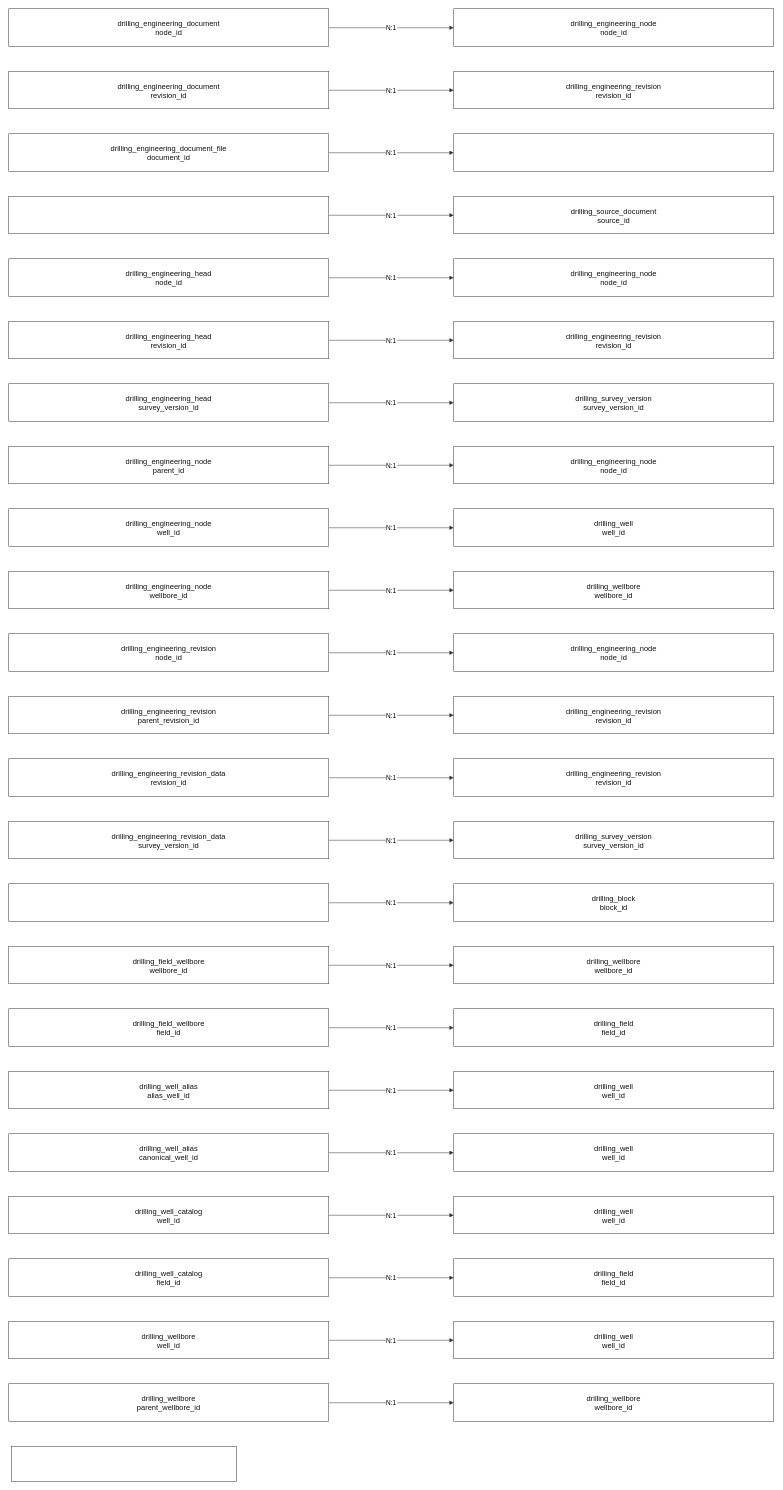
Some shapes in this 783 by 1490 pixel diagram are drawn without their labels. Each missing label, with the box of its shape:
drilling_engineering_document document_id: (453, 133, 774, 171)
drilling_engineering_document_file source_id: (8, 196, 329, 234)
drilling_engineering_migration: (11, 1446, 236, 1481)
drilling_field block_id: (8, 883, 329, 921)
